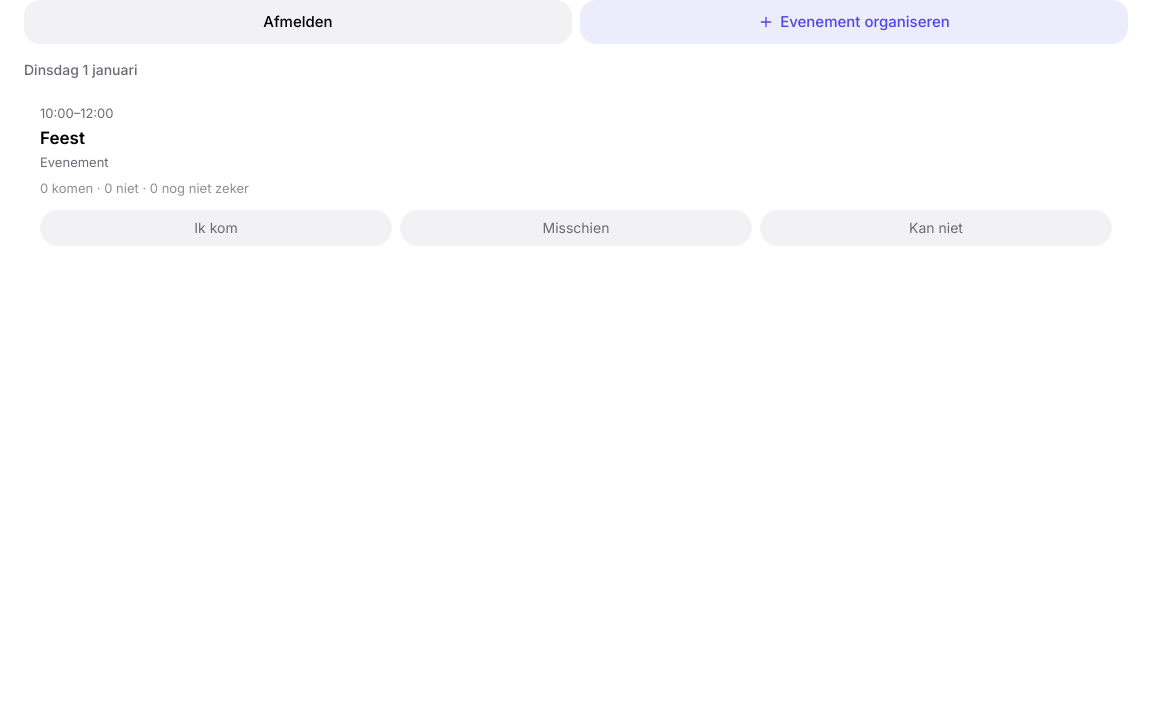
Test: houdt de evenementpagina open en meldt het als verwijderen mislukt
Click the text "Feest". click: (62, 138)
box: [40,126,85,151]
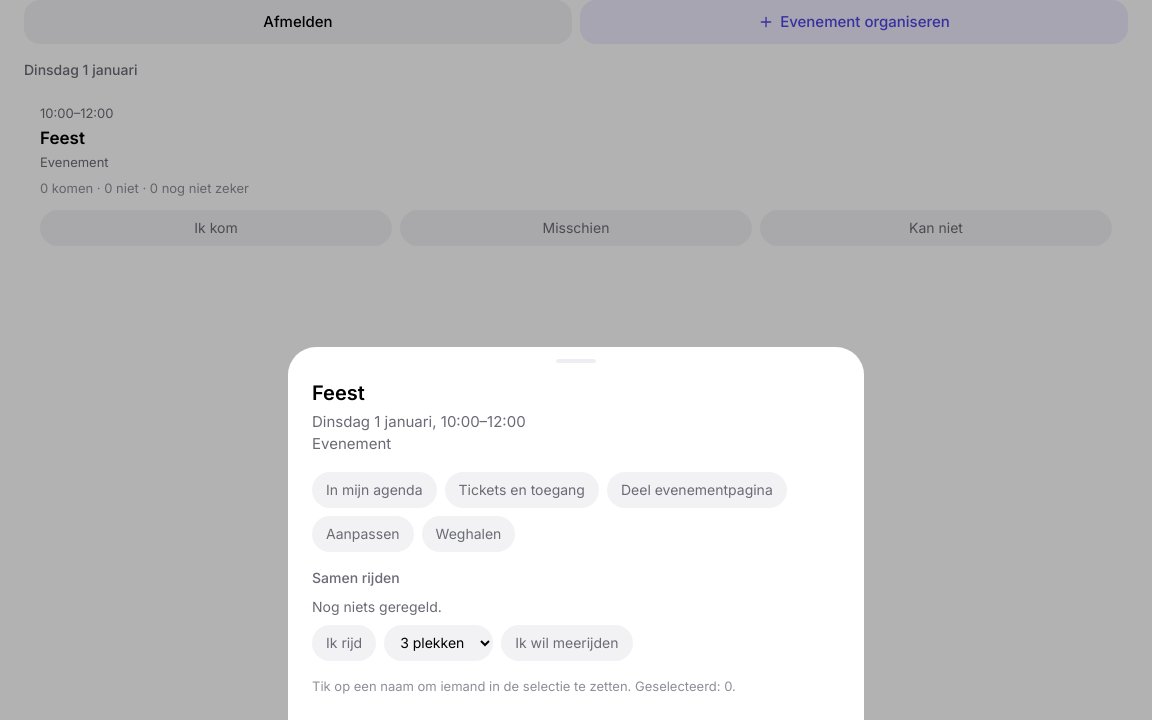
Click the button "Weghalen". click: (468, 534)
box: [422,516,515,552]
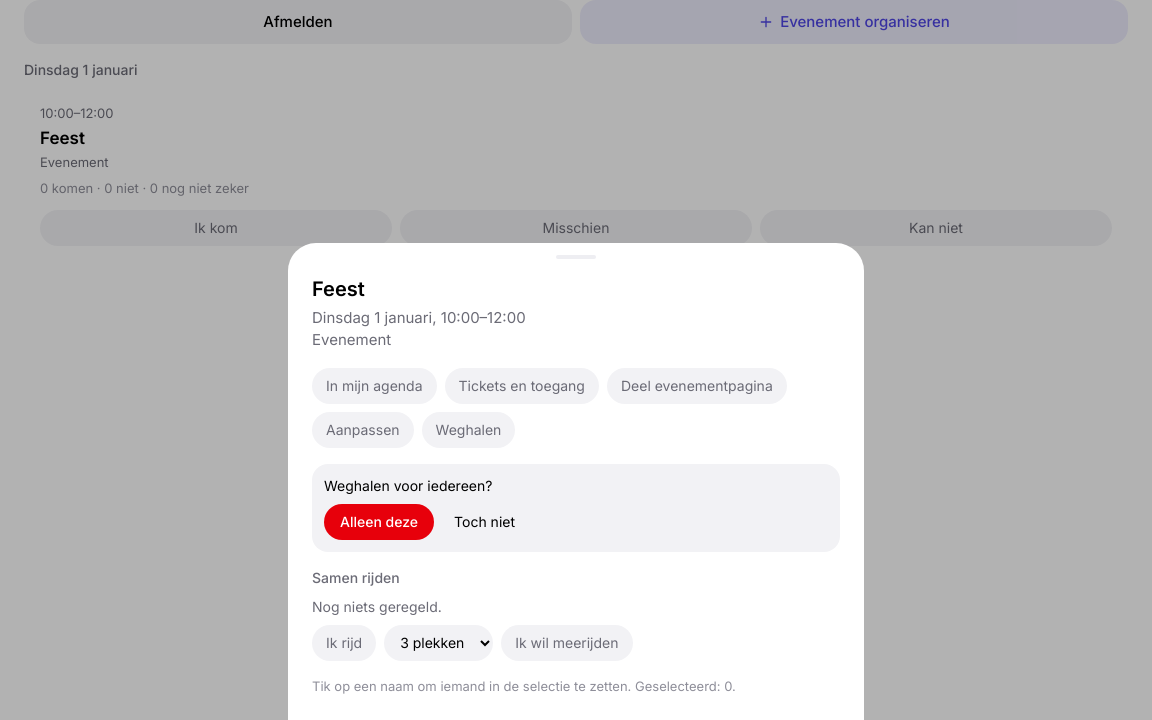
Click the button "Alleen deze". click: (379, 522)
box: [324,504,434,540]
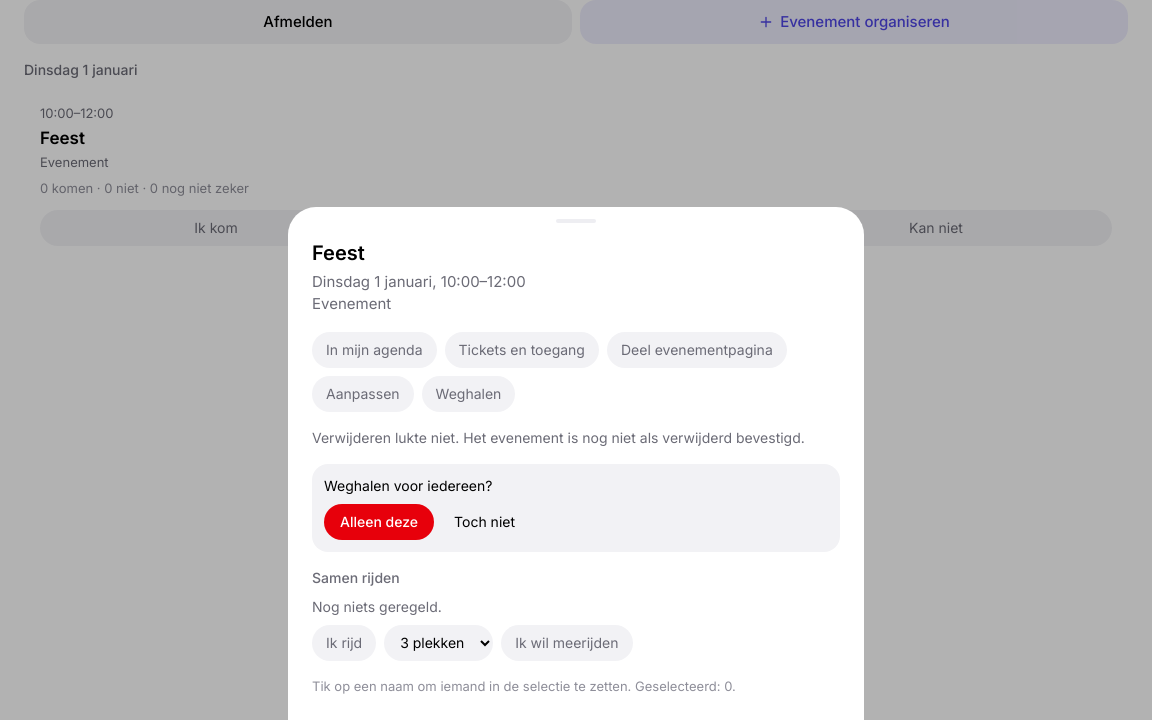
Expected: the dialog is shown, [288,206,864,719]
Expected: the text "Verwijderen lukte niet. Het evenement is nog niet als verwijderd bevestigd." is shown, [312,428,840,448]
